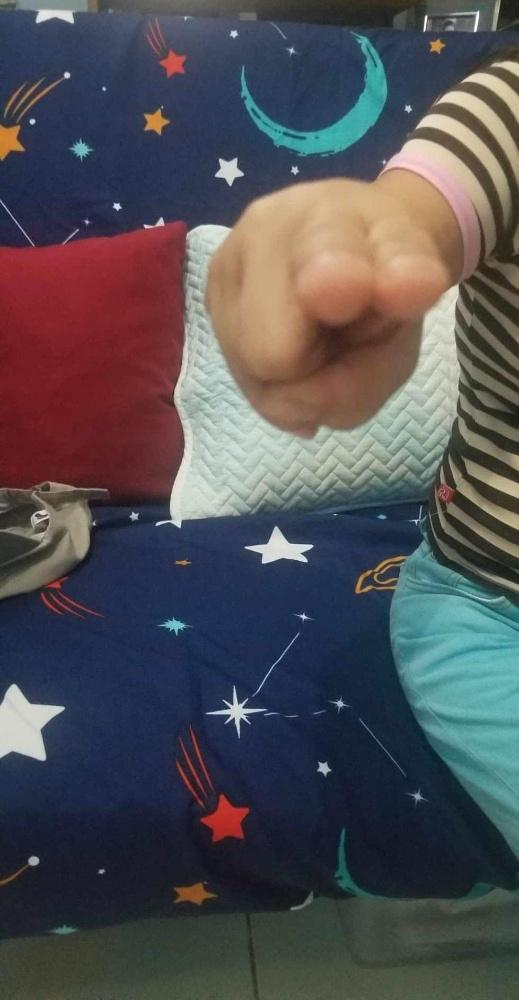n: (199, 176, 448, 446)
